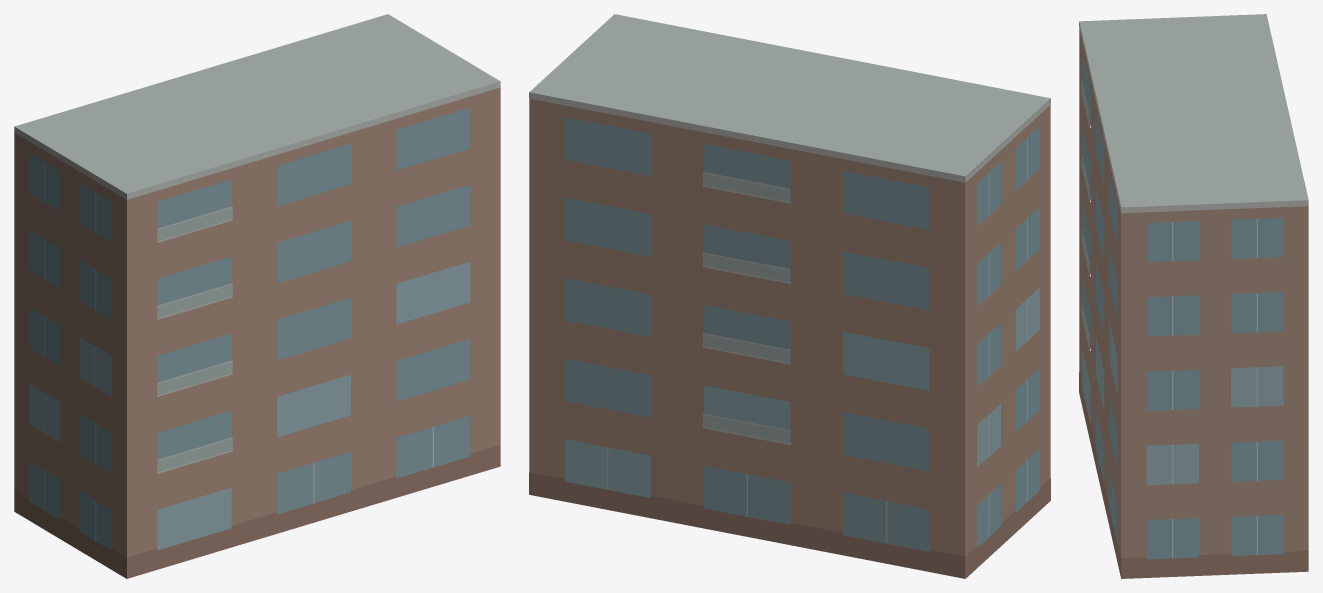
File: survey-upis-32907399.glb
3 views of the same model, side by side, from view 1: azimuth 30°, elevation 25°; view 2: azimuth 150°, elevation 25°; view 3: azimuth 270°, elevation 25° (orthographic). The views are drawn at different scales.
Visible parts, largest first — view 1: survey-upis-32907399.tmp; view 2: survey-upis-32907399.tmp; view 3: survey-upis-32907399.tmp.
Part boxes in pixels (x1=…): survey-upis-32907399.tmp: x1=14, y1=14, x2=500, y2=578; survey-upis-32907399.tmp: x1=529, y1=14, x2=1050, y2=578; survey-upis-32907399.tmp: x1=1079, y1=14, x2=1308, y2=578.
Bounding box in the file's own units: 17.44 × 15.6 × 8.75.
